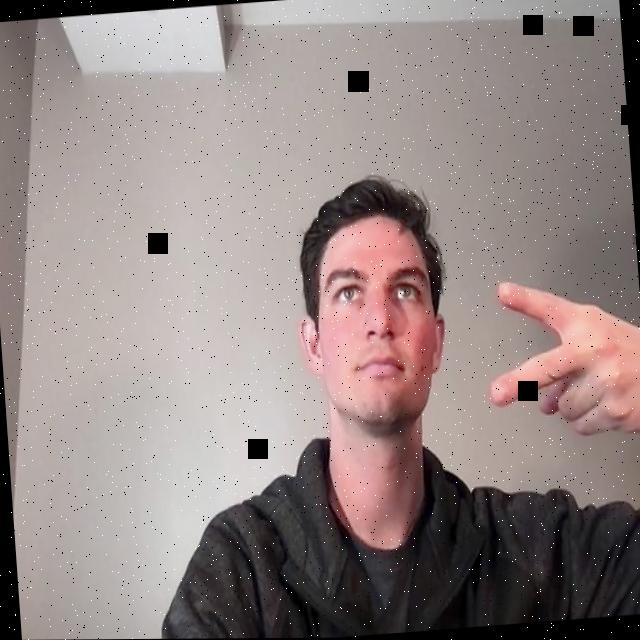Scissors: (467, 268, 640, 451)
